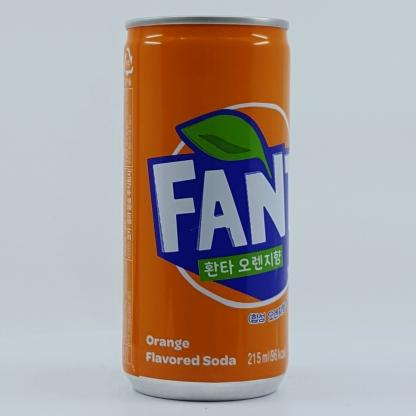-------215ML: (122, 15, 290, 401)
